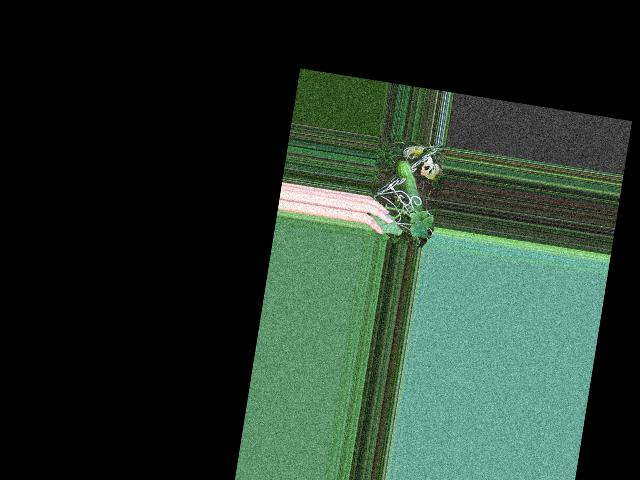cucumber: (389, 159, 430, 213)
